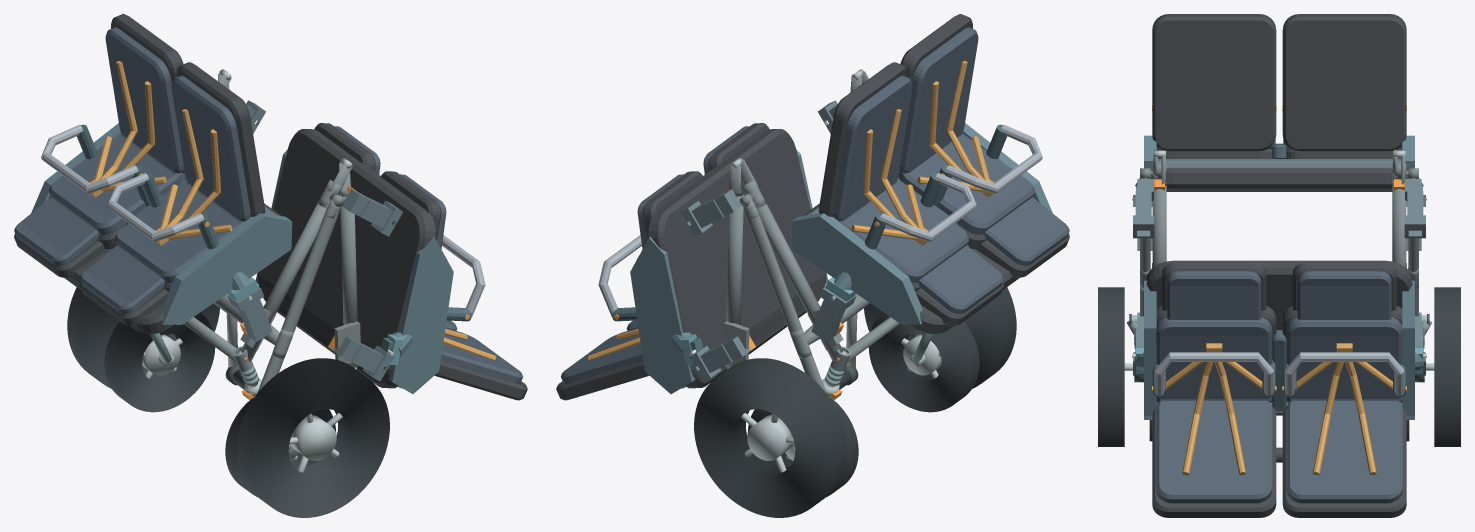
Rendered from D26_w650_state3_wheel_L.glb.
3 renders of one model, left to right at view 1: azimuth 30°, elevation 25°; view 2: azimuth 150°, elevation 25°; view 3: azimuth 270°, elevation 25°, orthographic.
Parts seen in each view (by area): view 1: D26_Lower, D26_Upper, RL_tire.008, FR_tire.008, RR_tire.008, V46_rear_leg_-1.009, main_lower_-1.009, main_upper_-1.009, RL_sealed_hub.008, Universal_Cabin_Receiver_M_-1, Universal_Cabin_Receiver_H_-1, FL_tire.008 (+5 smaller); view 2: D26_Lower, D26_Upper, RR_tire.008, FL_tire.008, RL_tire.008, V46_rear_leg_1.009, main_lower_1.009, main_upper_1.009, RR_sealed_hub.008, Universal_Cabin_Receiver_M_1, Universal_Cabin_Receiver_H_1, FR_tire.008 (+5 smaller); view 3: D26_Upper, D26_Lower, RL_tire.008, RR_tire.008, Universal_Cabin_Receiver_M_1, Universal_Cabin_Receiver_M_-1, main_upper_1.009, main_upper_-1.009, D26_Upper_Mount_H, V46_rear_leg_1.009, V46_rear_leg_-1.009.
Boxes of the visible parts, x1=… form: D26_Lower: x1=14, y1=14, x2=292, y2=334; D26_Upper: x1=256, y1=123, x2=527, y2=400; RL_tire.008: x1=237, y1=358, x2=389, y2=517; FR_tire.008: x1=104, y1=312, x2=215, y2=412; RR_tire.008: x1=67, y1=287, x2=219, y2=388; V46_rear_leg_-1.009: x1=257, y1=206, x2=339, y2=393; main_lower_-1.009: x1=241, y1=201, x2=330, y2=361; main_upper_-1.009: x1=340, y1=194, x2=358, y2=367; RL_sealed_hub.008: x1=291, y1=415, x2=336, y2=460; Universal_Cabin_Receiver_M_-1: x1=342, y1=189, x2=402, y2=236; Universal_Cabin_Receiver_H_-1: x1=333, y1=336, x2=394, y2=381; FL_tire.008: x1=225, y1=398, x2=336, y2=496; D26_Lower: x1=791, y1=14, x2=1069, y2=334; D26_Upper: x1=556, y1=123, x2=827, y2=400; RR_tire.008: x1=694, y1=358, x2=846, y2=517; FL_tire.008: x1=868, y1=312, x2=979, y2=412; RL_tire.008: x1=864, y1=287, x2=1016, y2=388; V46_rear_leg_1.009: x1=744, y1=206, x2=826, y2=393; main_lower_1.009: x1=753, y1=201, x2=842, y2=361; main_upper_1.009: x1=725, y1=193, x2=743, y2=367; RR_sealed_hub.008: x1=747, y1=415, x2=792, y2=460; Universal_Cabin_Receiver_M_1: x1=681, y1=189, x2=741, y2=236; Universal_Cabin_Receiver_H_1: x1=689, y1=336, x2=750, y2=381; FR_tire.008: x1=747, y1=398, x2=858, y2=496; D26_Upper: x1=1144, y1=260, x2=1414, y2=517; D26_Lower: x1=1144, y1=14, x2=1414, y2=191; RL_tire.008: x1=1098, y1=287, x2=1124, y2=446; RR_tire.008: x1=1434, y1=287, x2=1460, y2=446; Universal_Cabin_Receiver_M_1: x1=1404, y1=179, x2=1425, y2=238; Universal_Cabin_Receiver_M_-1: x1=1133, y1=179, x2=1154, y2=238; main_upper_1.009: x1=1392, y1=185, x2=1406, y2=267; main_upper_-1.009: x1=1152, y1=185, x2=1166, y2=267; D26_Upper_Mount_H: x1=1132, y1=346, x2=1426, y2=373; V46_rear_leg_1.009: x1=1408, y1=238, x2=1418, y2=316; V46_rear_leg_-1.009: x1=1140, y1=238, x2=1150, y2=316.
Size of the model in its own units: 1.04 by 0.9966 by 0.8171.
